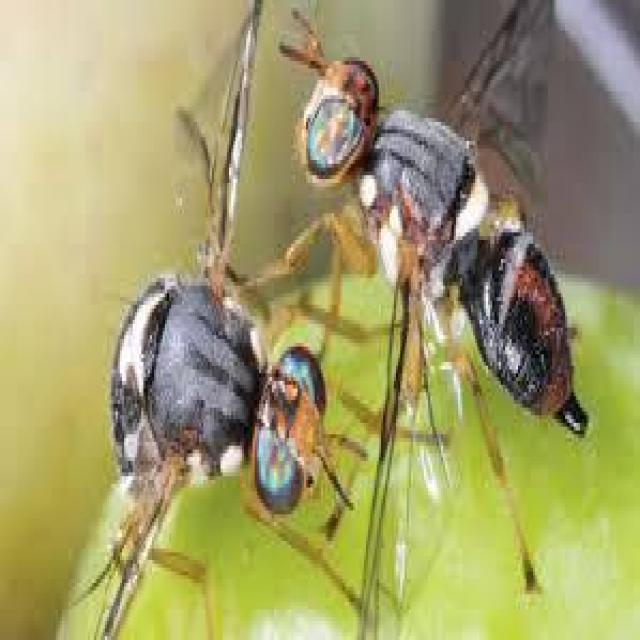Anthracnose: (73, 0, 612, 636)
